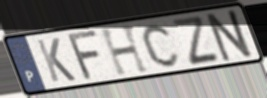C: (141, 22, 183, 69)
F: (67, 28, 103, 83)
H: (98, 23, 152, 78)
K: (34, 36, 78, 84)
N: (204, 7, 257, 64)
Z: (168, 14, 222, 67)
